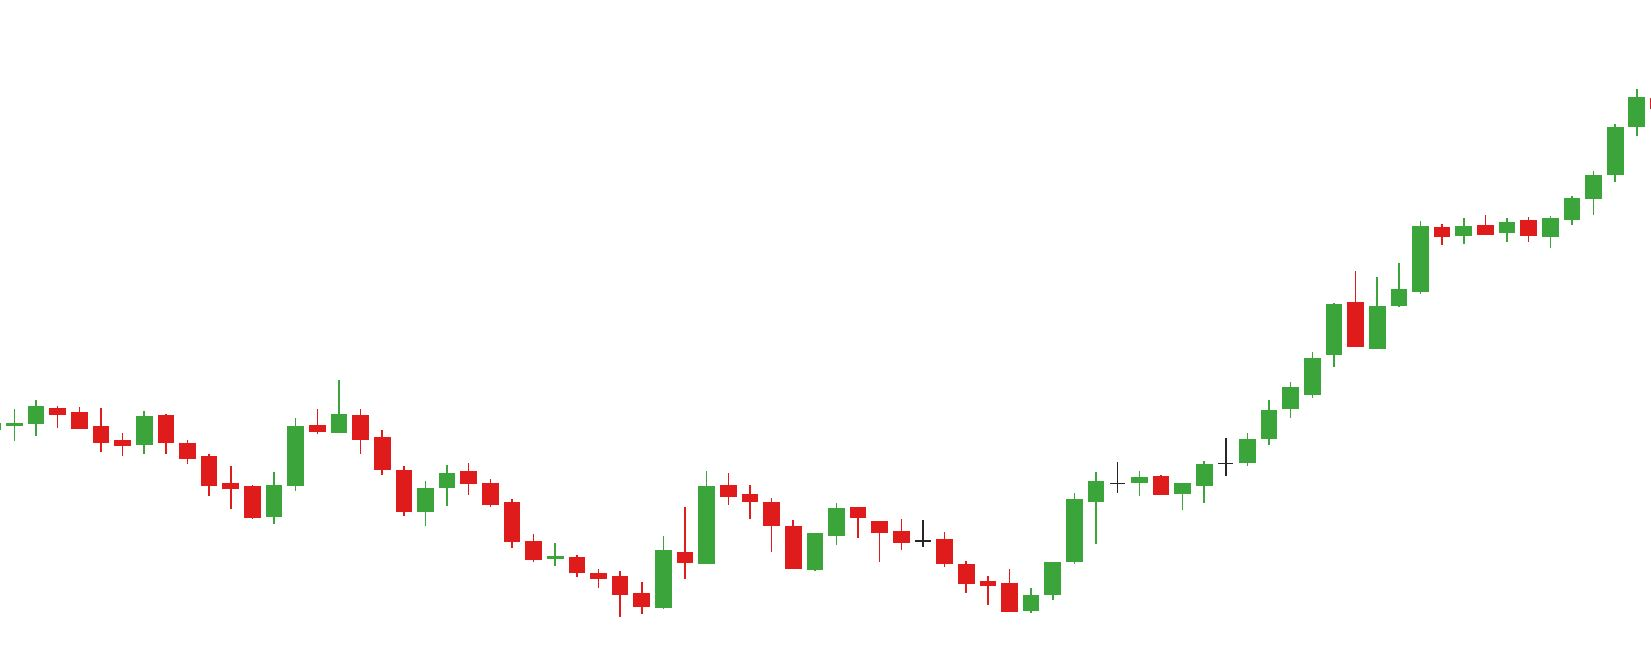buy: (781, 516, 1065, 614)
